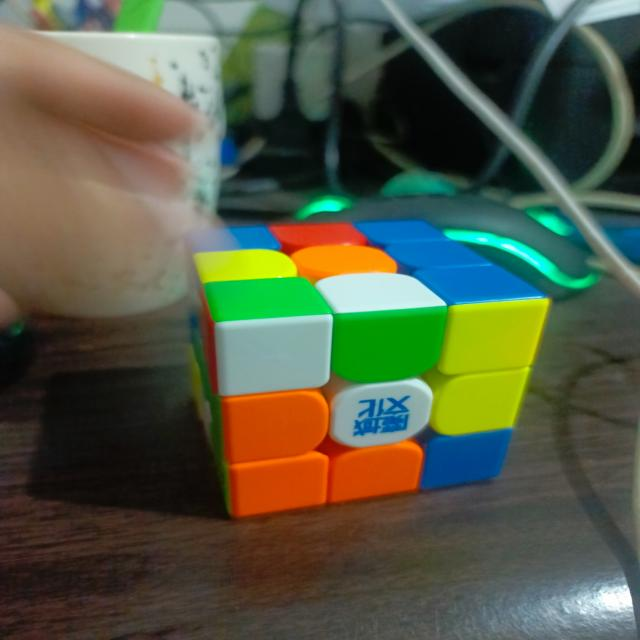rubik: (190, 217, 551, 518)
